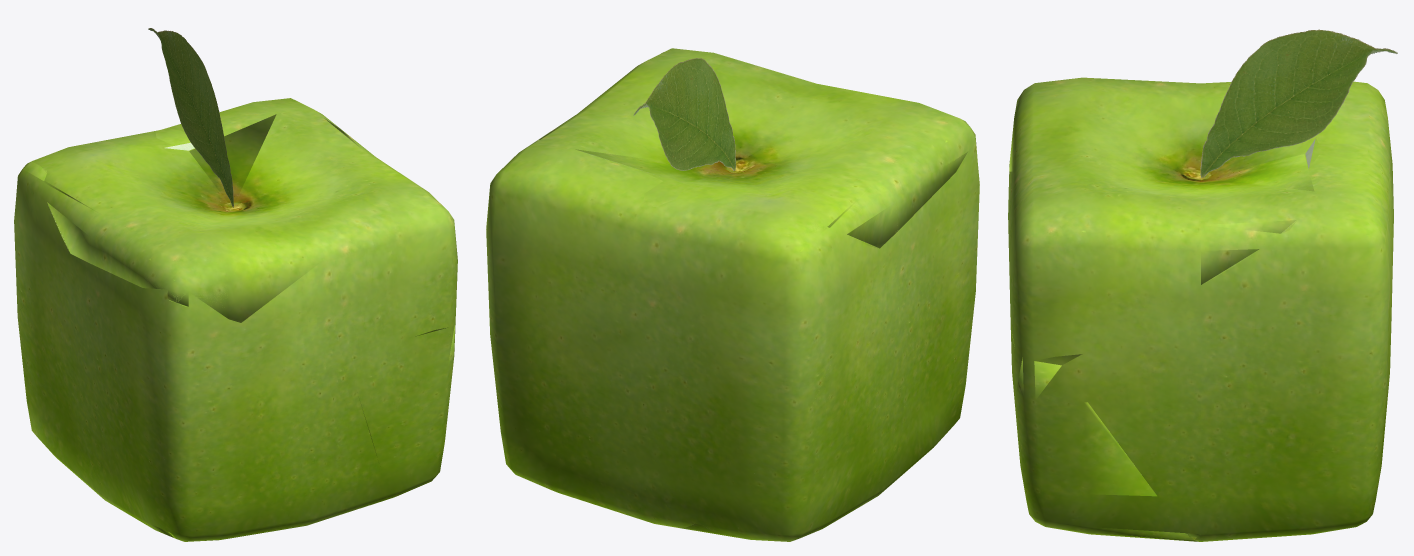
The model's file is SqApple.fbx.
3 views of the same model, side by side, from view 1: azimuth 30°, elevation 25°; view 2: azimuth 150°, elevation 25°; view 3: azimuth 270°, elevation 25° (orthographic). The views are drawn at different scales.
Visible parts, largest first — view 1: SqApple, SqApple_cell.005, SqApple_leaf, SqApple_cell, SqApple_cell.003; view 2: SqApple, SqApple_leaf, SqApple_cell.005, SqApple_cell; view 3: SqApple, SqApple_leaf, SqApple_cell.003, SqApple_cell.005, SqApple_cell.
Boxes of the visible parts, left/top/right/bottom form: SqApple: left=14, top=98, right=457, bottom=541; SqApple_cell.005: left=44, top=114, right=454, bottom=336; SqApple_leaf: left=148, top=28, right=233, bottom=207; SqApple_cell: left=23, top=128, right=194, bottom=250; SqApple_cell.003: left=361, top=325, right=454, bottom=498; SqApple: left=486, top=48, right=979, bottom=541; SqApple_leaf: left=633, top=58, right=735, bottom=170; SqApple_cell.005: left=538, top=112, right=976, bottom=248; SqApple_cell: left=536, top=140, right=878, bottom=525; SqApple: left=1008, top=77, right=1393, bottom=541; SqApple_leaf: left=1200, top=29, right=1397, bottom=177; SqApple_cell.003: left=1016, top=357, right=1198, bottom=541; SqApple_cell.005: left=1009, top=118, right=1314, bottom=365; SqApple_cell: left=1187, top=138, right=1368, bottom=541.
Bounding box in the file's own units: 10.71 × 14.18 × 10.88.
